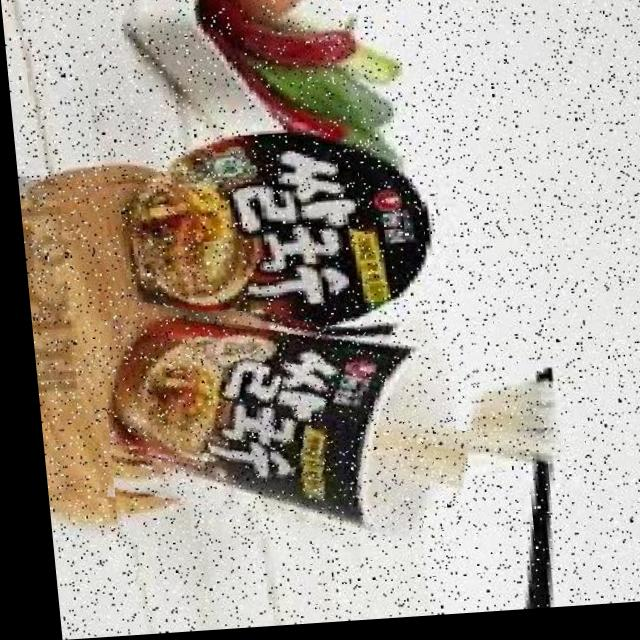Miscellaneous: (90, 302, 482, 554)
